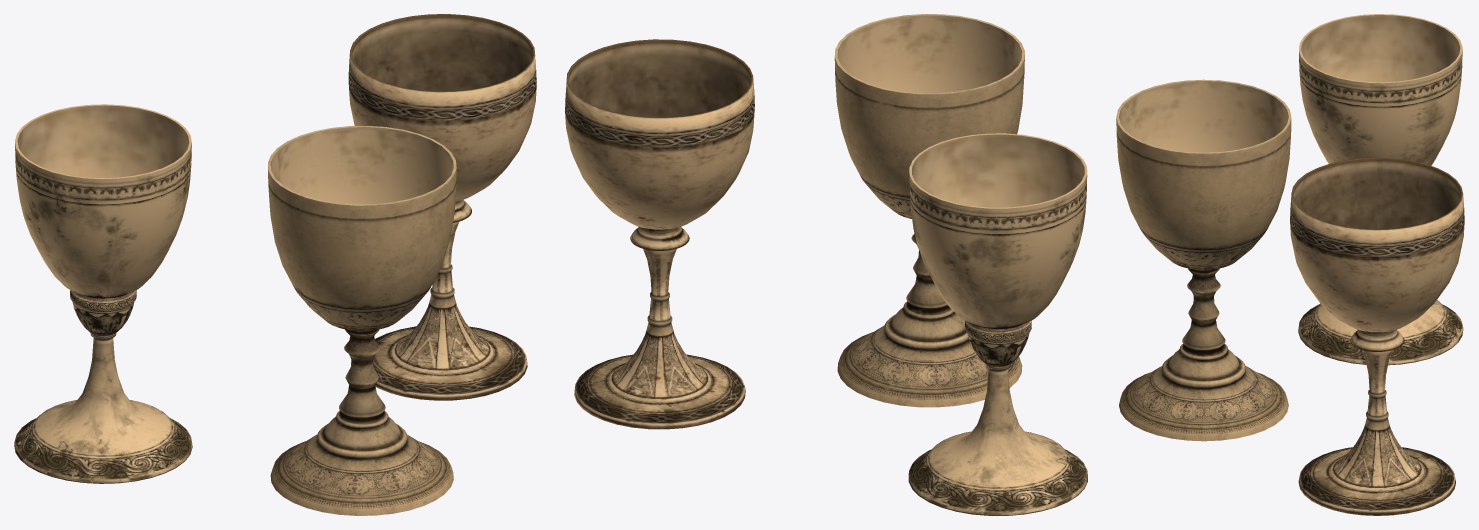
The model's file is brass_goblets.glb.
The picture shows the model from 3 angles, left to right: view 1: azimuth 30°, elevation 25°; view 2: azimuth 150°, elevation 25°; view 3: azimuth 270°, elevation 25°; orthographic projection. The views are drawn at different scales.
Size of the model in its own units: 0.4534 by 0.2734 by 0.2976.
Materials: 3 (3 with a texture image).
